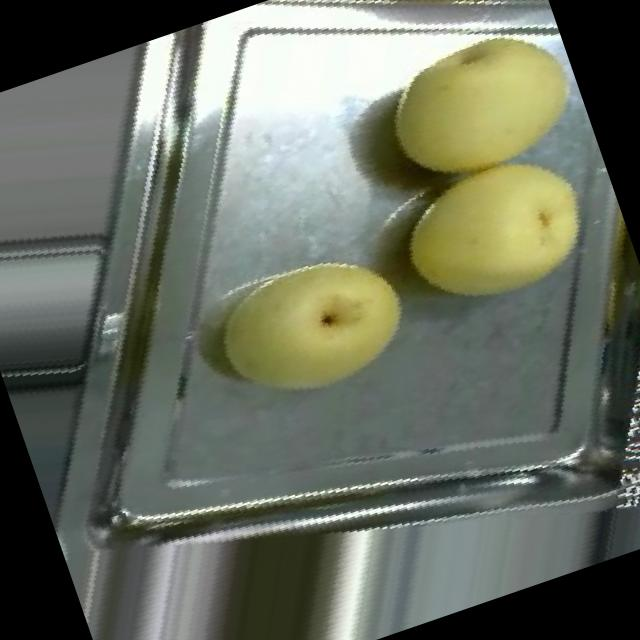Fruit: (331, 0, 628, 313), (174, 204, 446, 446)
